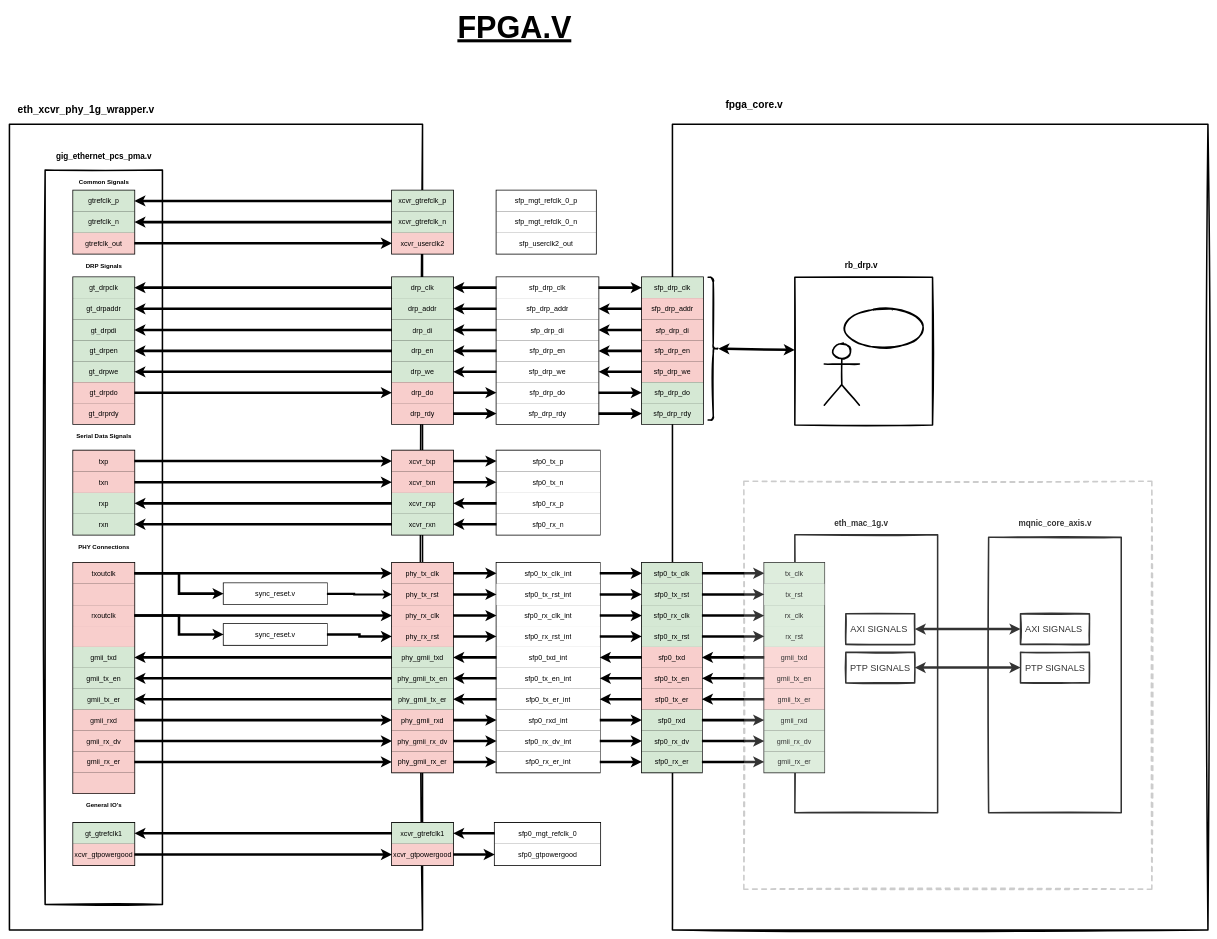
This 1217x939 diagram has some shape labels left out. The shapes that lost their labels are listed below. From the top down, each one's box as (x1, y1, x2, y2) in pixels, then its label:
(845, 307, 923, 349): What does this do?
(823, 342, 860, 406): Joel
